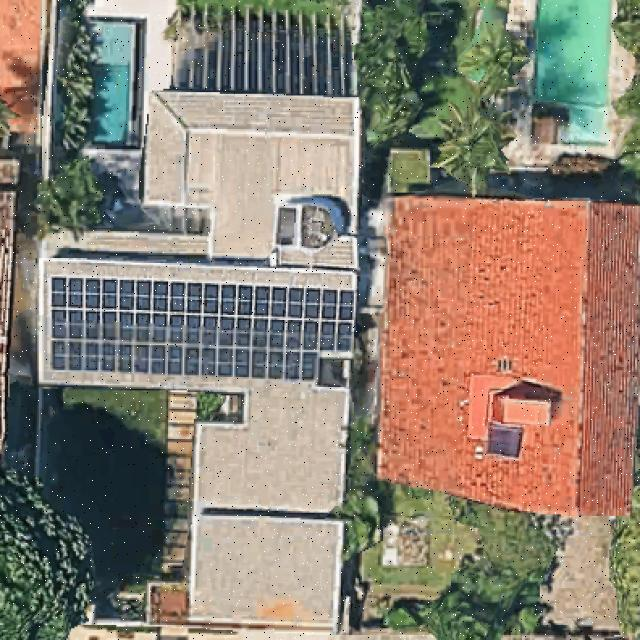painel: (46, 272, 355, 383)
